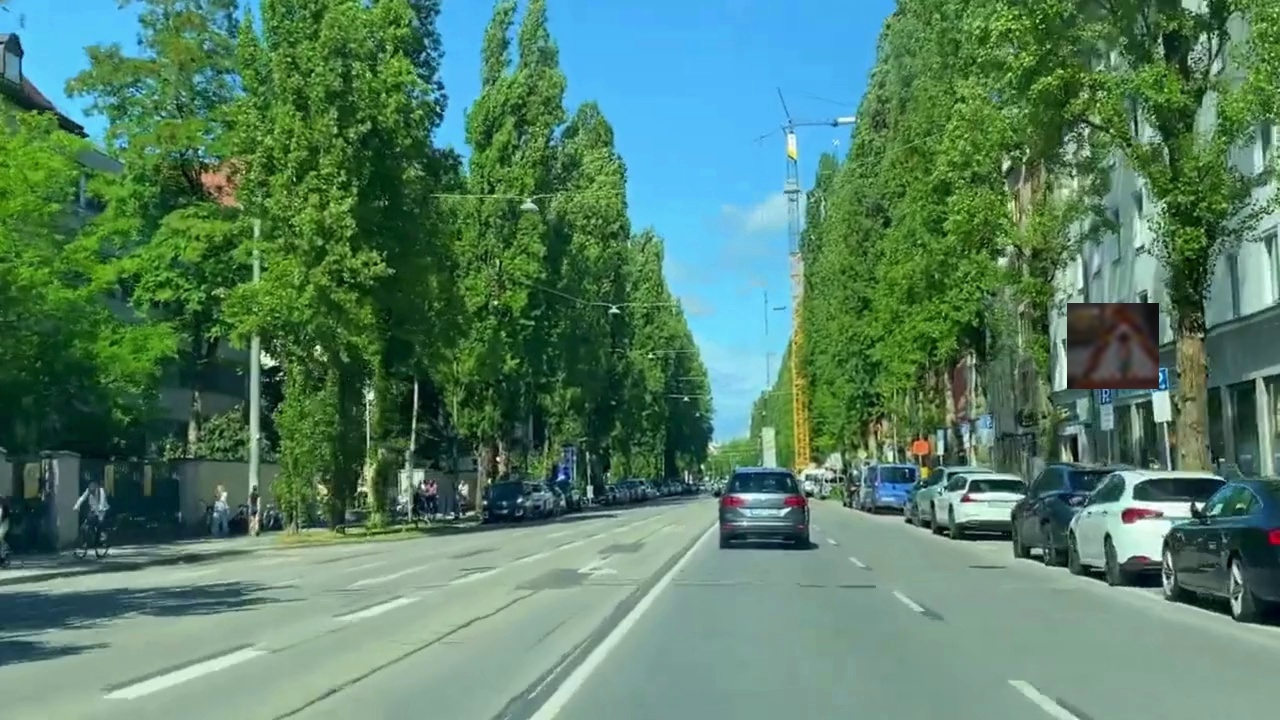Signals: (1067, 303, 1159, 389)
